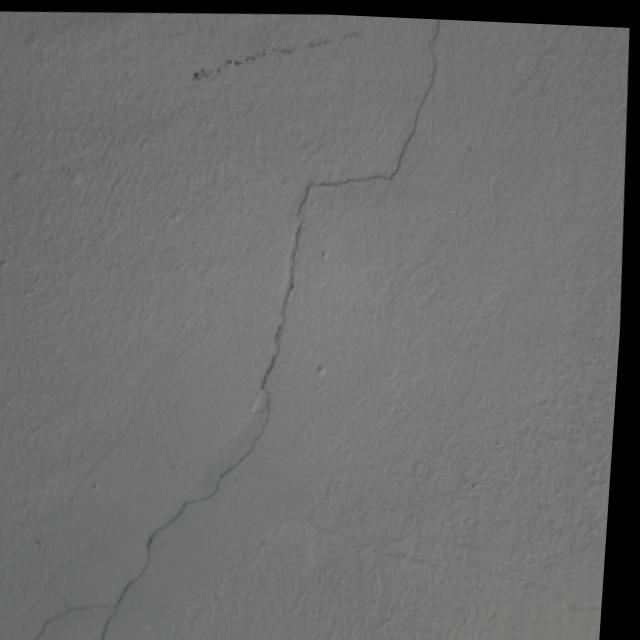Crack: (12, 2, 466, 640)
